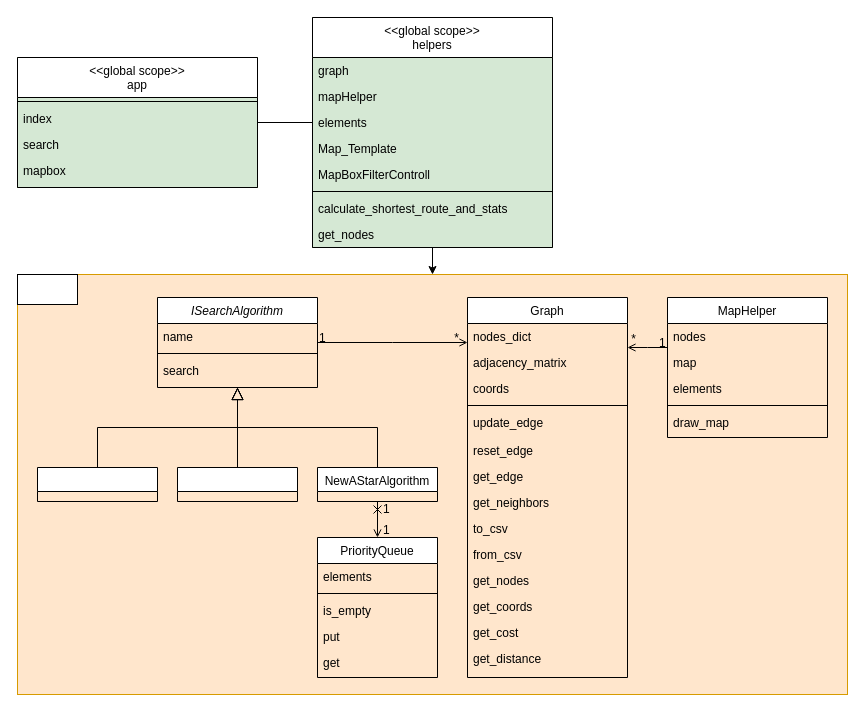
Image size: 865x712. Some labels were removed from this diagram. Each missing label, with the box of its shape:
AStarAlgorithm: (176, 466, 298, 502)
DijkstraAlgorithm: (36, 466, 158, 502)
lib: (16, 274, 78, 304)
